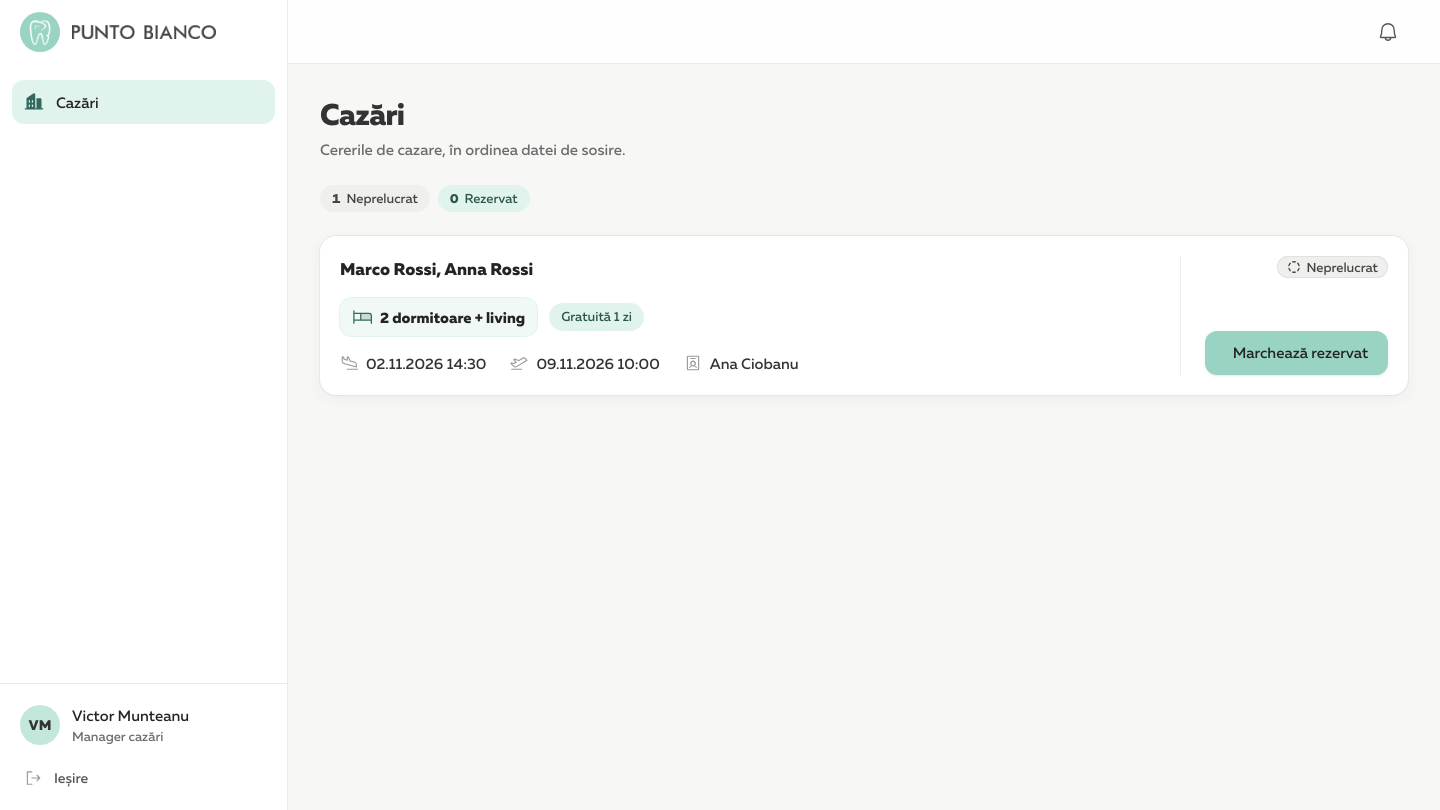
Cazări › cerere neprelucrată: „Marchează rezervat” -> REZERVAT
expect the text "Neprelucrat" is shown: met, box x1=1276 y1=256 x2=1388 y2=278
expect the text "2 dormitoare + living" is shown: met, box x1=340 y1=298 x2=537 y2=336
Click the button "Marchează rezervat": (1296, 352) x1=1205 y1=330 x2=1388 y2=374
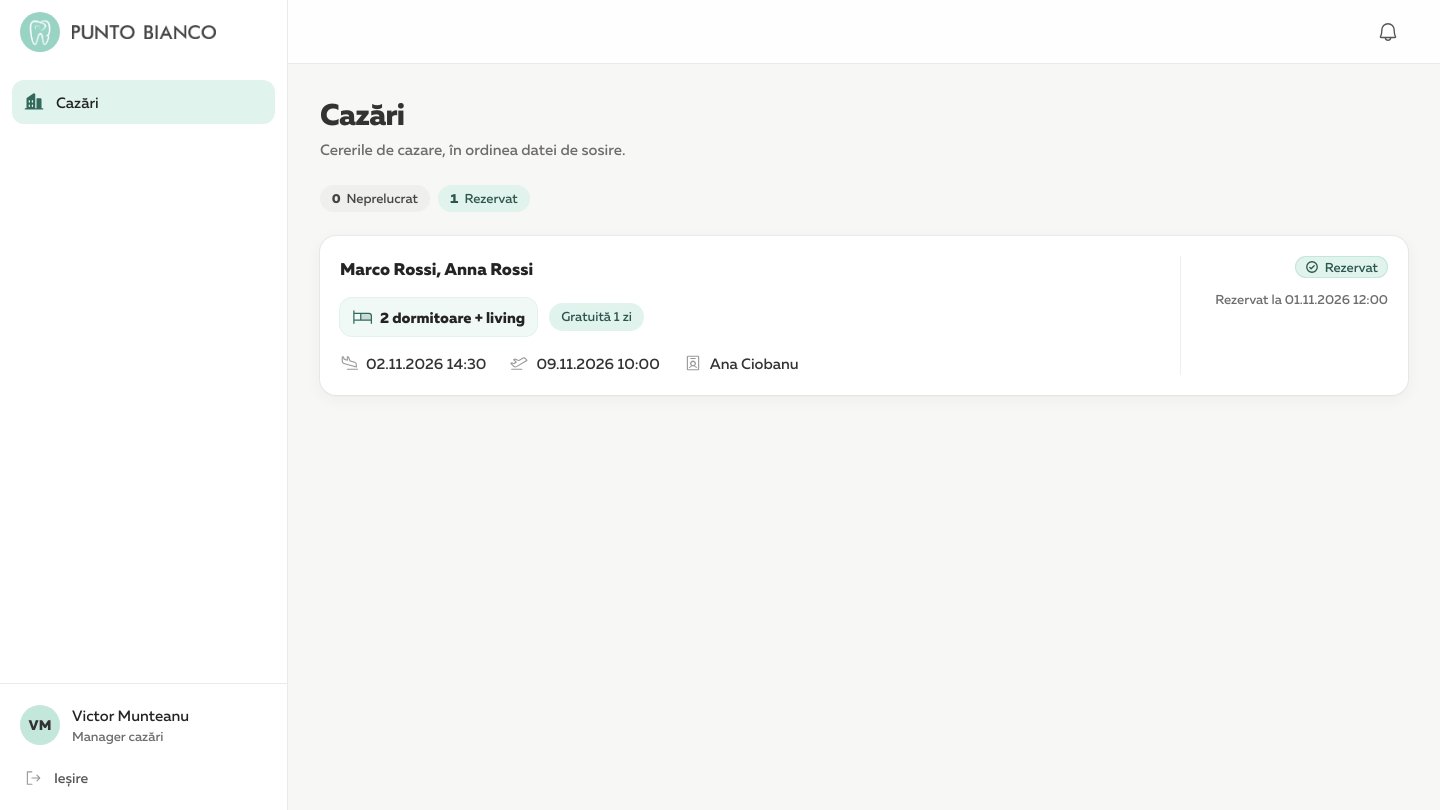
expect the text "Rezervat" is shown: met, box x1=1295 y1=256 x2=1388 y2=278
expect the text "01.11.2026 12:00" is shown: met, box x1=1285 y1=291 x2=1388 y2=307
expect the button "Marchează rezervat" is gone: met
